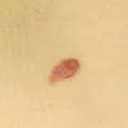Carcinoma: (47, 57, 79, 86)
